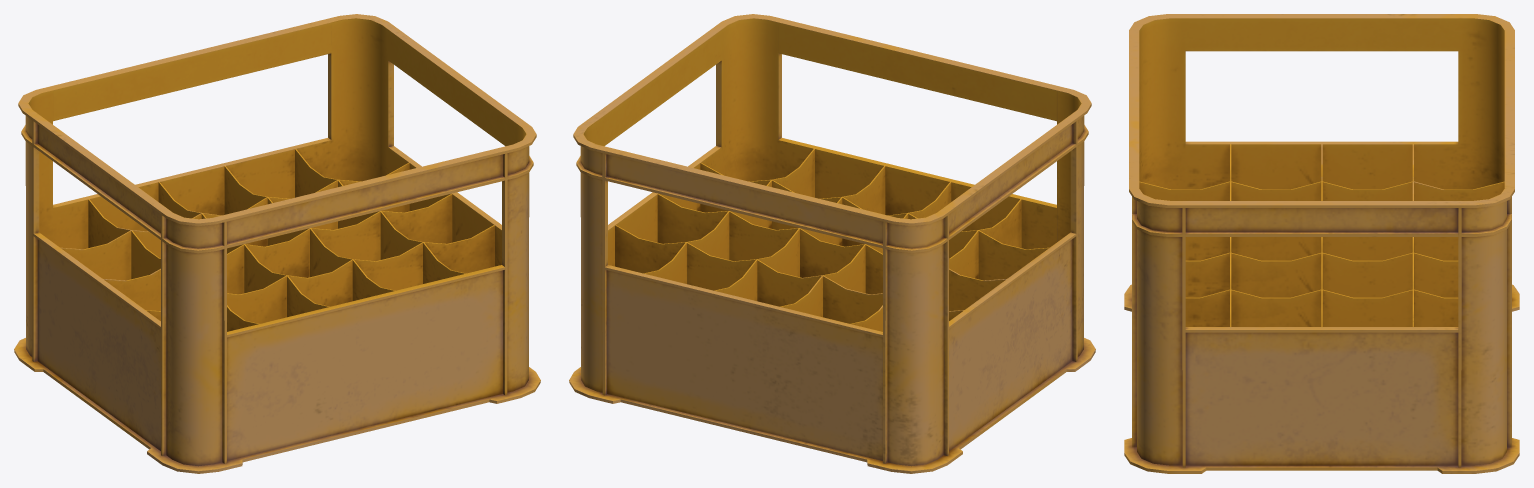
The model's file is Case.fbx.
The picture shows the model from 3 angles, left to right: view 1: azimuth 30°, elevation 25°; view 2: azimuth 150°, elevation 25°; view 3: azimuth 270°, elevation 25°; orthographic projection. The views are drawn at different scales.
Parts seen in each view (by area): view 1: Case; view 2: Case; view 3: Case.
Boxes of the visible parts, <box> form: Case: <box>14,14,540,473</box>; Case: <box>569,14,1095,473</box>; Case: <box>1124,14,1519,473</box>.
Bounding box in the file's own units: 47.04 × 29.97 × 40.28.
